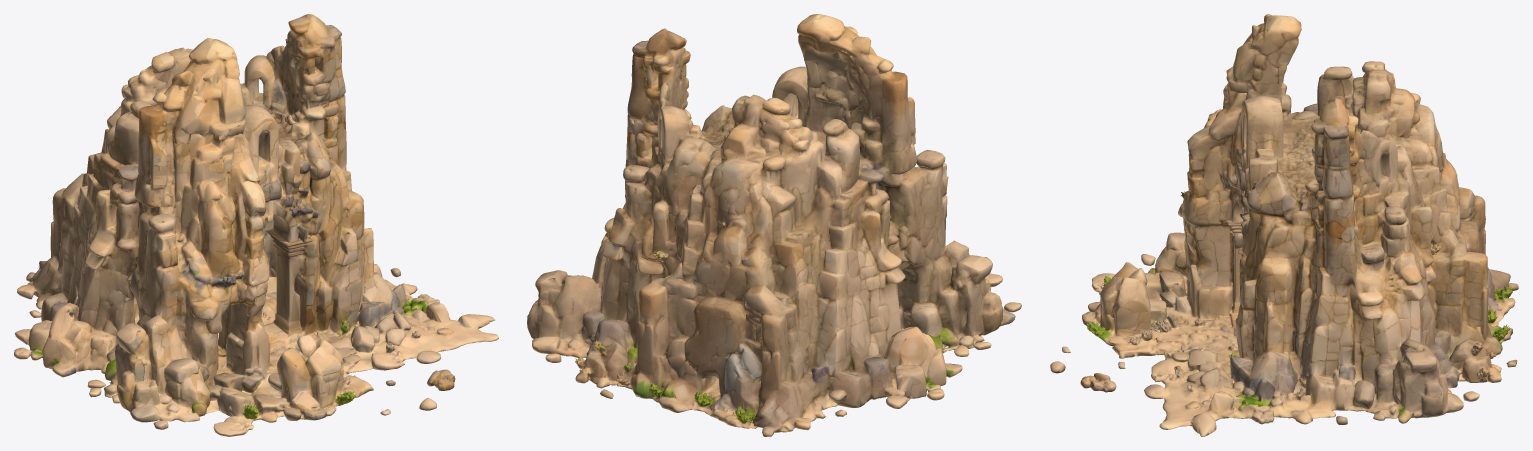
The model's file is Stone_Fortress.glb.
The picture shows the model from 3 angles, left to right: view 1: azimuth 30°, elevation 25°; view 2: azimuth 150°, elevation 25°; view 3: azimuth 270°, elevation 25°; orthographic projection. The views are drawn at different scales.
Visible parts, largest first — view 1: Stone_Fortress; view 2: Stone_Fortress; view 3: Stone_Fortress.
Part boxes in pixels (box(x1,y1,x2,y2)): Stone_Fortress: box(14, 14, 498, 436); Stone_Fortress: box(527, 14, 1021, 436); Stone_Fortress: box(1050, 14, 1518, 436).
Size of the model in its own units: 1.85 by 1.42 by 1.9.
1 material, 1 textured.
